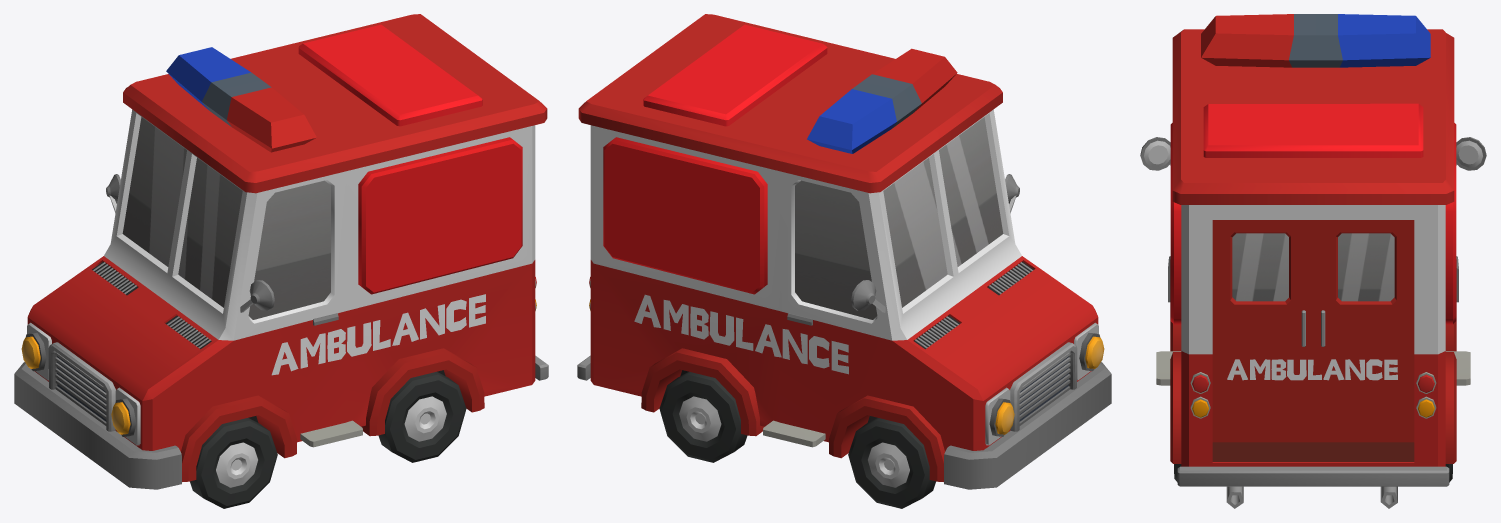
File: Ambulance_1_A.fbx
The picture shows the model from 3 angles, left to right: view 1: azimuth 30°, elevation 25°; view 2: azimuth 150°, elevation 25°; view 3: azimuth 270°, elevation 25°; orthographic projection. The views are drawn at different scales.
Visible parts, largest first — view 1: Ambulance_1_A, RL, FL; view 2: Ambulance_1_A, RR, FR; view 3: Ambulance_1_A.
Boxes of the visible parts, bbox=[...] form: Ambulance_1_A: bbox=[14, 14, 548, 489]; RL: bbox=[378, 371, 466, 462]; FL: bbox=[190, 418, 277, 508]; Ambulance_1_A: bbox=[577, 14, 1111, 489]; RR: bbox=[659, 371, 747, 462]; FR: bbox=[848, 418, 935, 508]; Ambulance_1_A: bbox=[1140, 14, 1486, 508].
Bounding box in the file's own units: 275 × 222 × 180.
